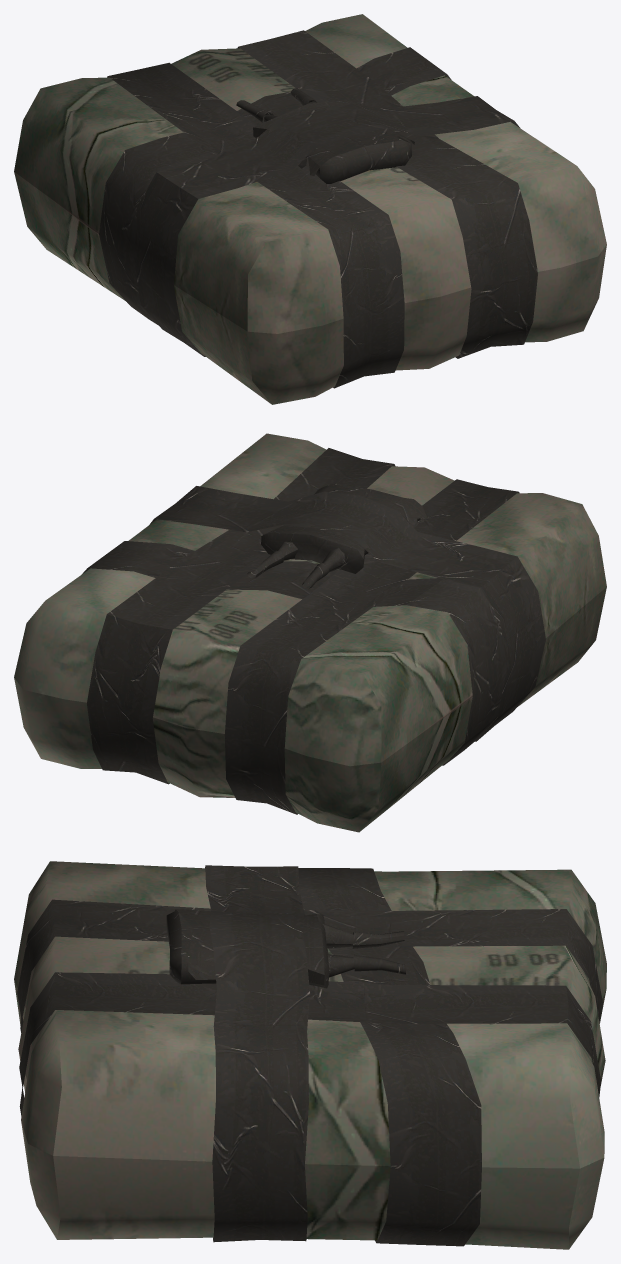
File: Bomb.FBX
3 renders of one model, top to bottom at view 1: azimuth 30°, elevation 25°; view 2: azimuth 150°, elevation 25°; view 3: azimuth 270°, elevation 25°, orthographic. The views are drawn at different scales.
Visible parts, largest first — view 1: Bomb; view 2: Bomb; view 3: Bomb.
Boxes of the visible parts, <box> form: Bomb: <box>14,14,606,404</box>; Bomb: <box>14,433,606,832</box>; Bomb: <box>14,861,606,1249</box>.
Bounding box in the file's own units: 41.02 × 20.15 × 47.6.
Materials: 1 (1 with a texture image).
